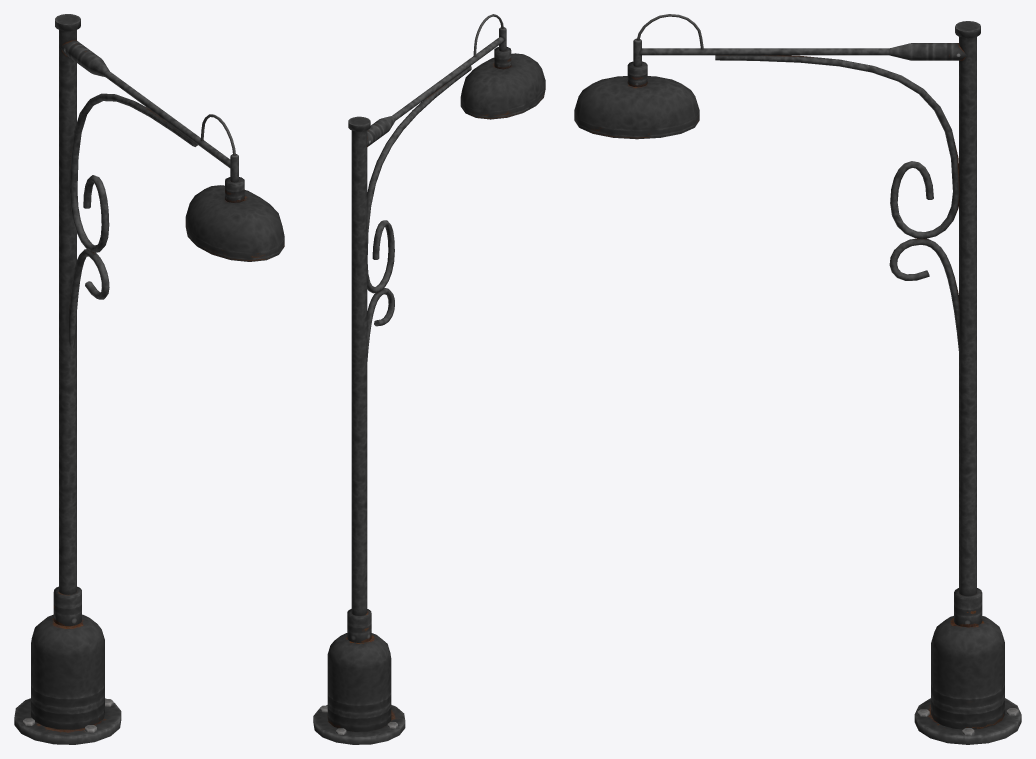
The model's file is Lamp_Street1.fbx.
The picture shows the model from 3 angles, left to right: view 1: azimuth 30°, elevation 25°; view 2: azimuth 150°, elevation 25°; view 3: azimuth 270°, elevation 25°; orthographic projection. The views are drawn at different scales.
Visible parts, largest first — view 1: Lamp_Street1_LOD0; view 2: Lamp_Street1_LOD0; view 3: Lamp_Street1_LOD0.
Part boxes in pixels (<box>): Lamp_Street1_LOD0: <box>14,14,284,744</box>; Lamp_Street1_LOD0: <box>313,14,545,744</box>; Lamp_Street1_LOD0: <box>574,14,1021,744</box>.
Size of what is drawn, in the model's own units: 56.08 by 410 by 235.
